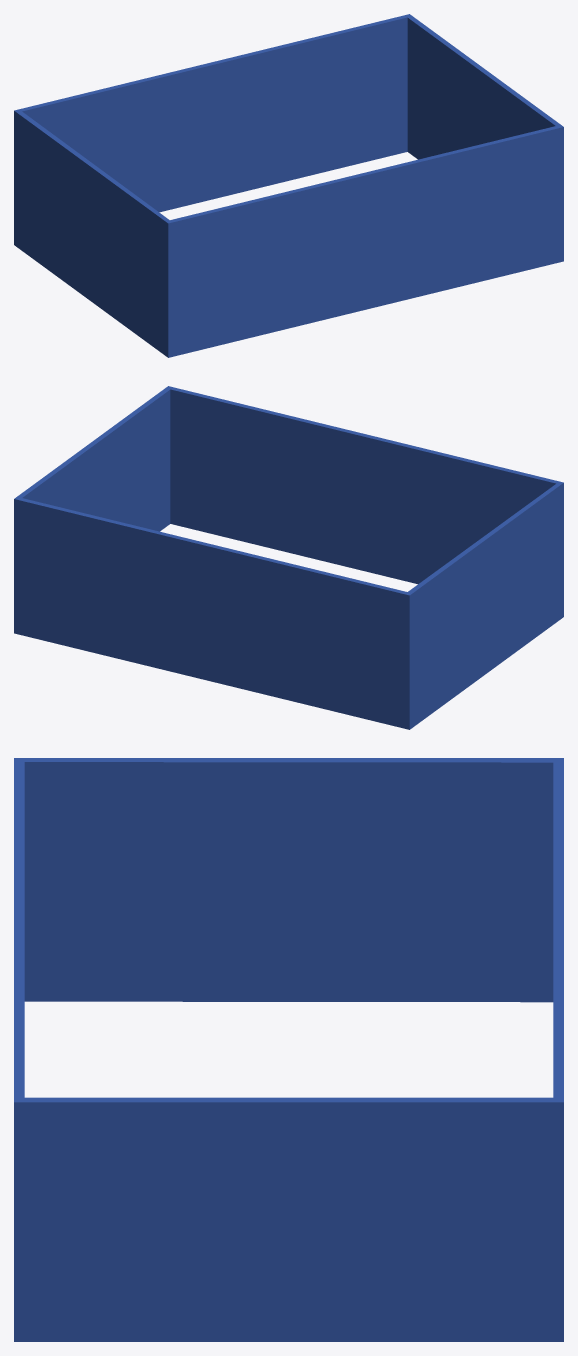
The model's file is walls.dae.
3 views of the same model, one above another, from view 1: azimuth 30°, elevation 25°; view 2: azimuth 150°, elevation 25°; view 3: azimuth 270°, elevation 25° (orthographic). The views are drawn at different scales.
Visible parts, largest first — view 1: 5d25b8701f18ee17571a869e; view 2: 5d25b8701f18ee17571a869e; view 3: 5d25b8701f18ee17571a869e.
Boxes of the visible parts, x1=… form: 5d25b8701f18ee17571a869e: x1=14, y1=14, x2=563, y2=357; 5d25b8701f18ee17571a869e: x1=14, y1=386, x2=563, y2=729; 5d25b8701f18ee17571a869e: x1=14, y1=758, x2=563, y2=1341.
Bounding box in the file's own units: 154 × 104 × 50.
